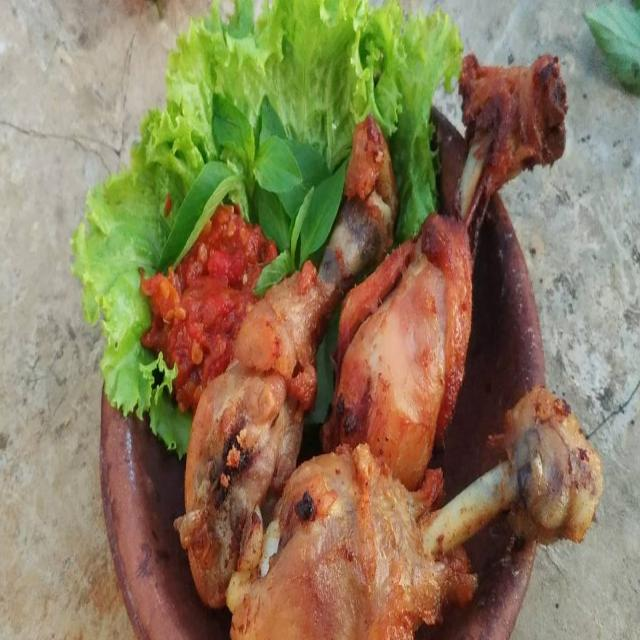Chicken -Fried Chicken-: (160, 112, 405, 612), (316, 40, 568, 497), (223, 374, 602, 640)
